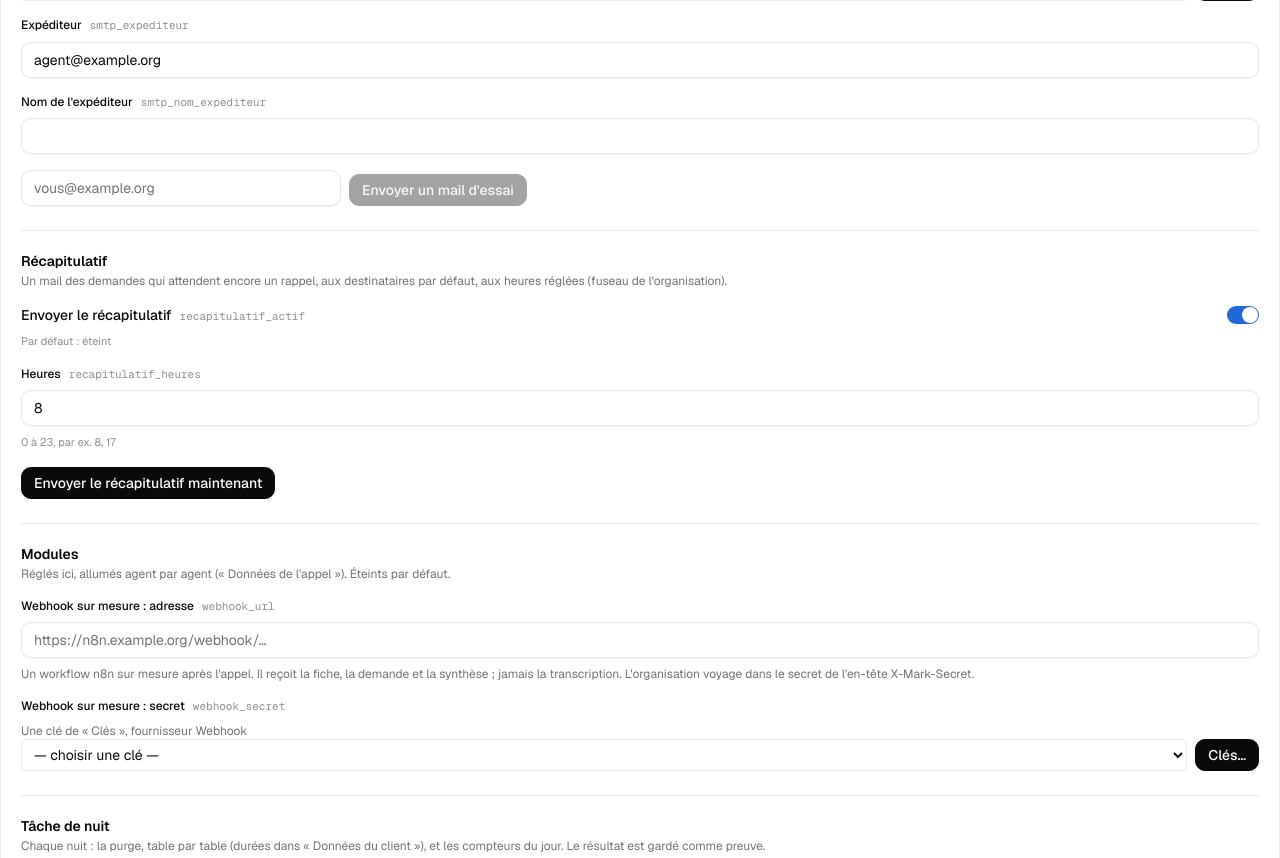
After the call (organization) › blocks the theme on hours that are not hours, and names the setting (E7)
(page scrolled)
Replace the text in the field labelled "Heures" with "8, 25" at (640, 408), box [21, 390, 1259, 426]
(page scrolled)
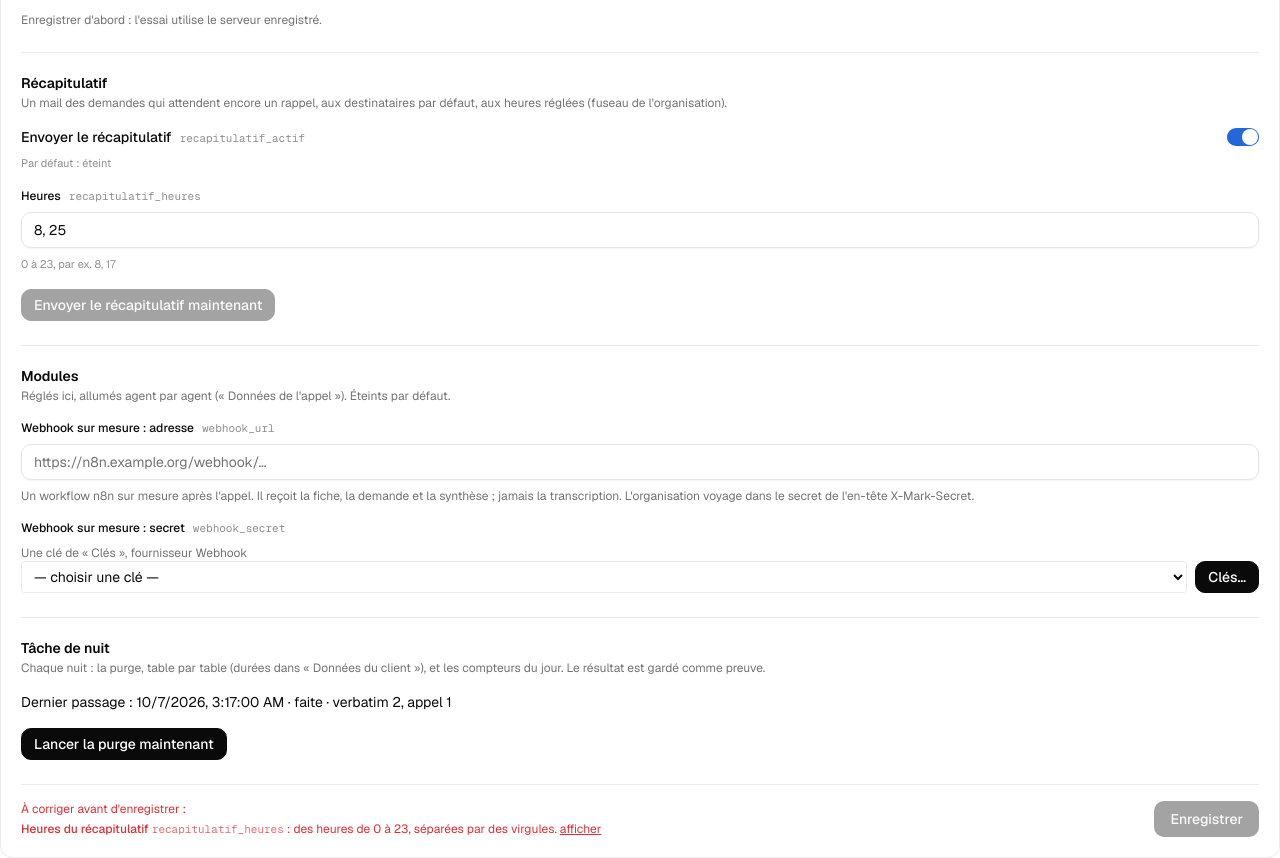
Expected: the text "Heures du récapitulatif" is shown, [21, 820, 149, 836]
